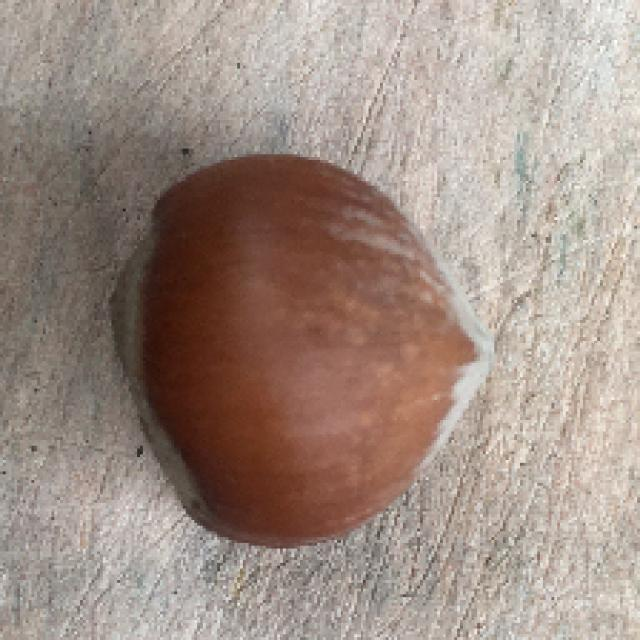qualityHazelnut: (113, 153, 492, 548)
